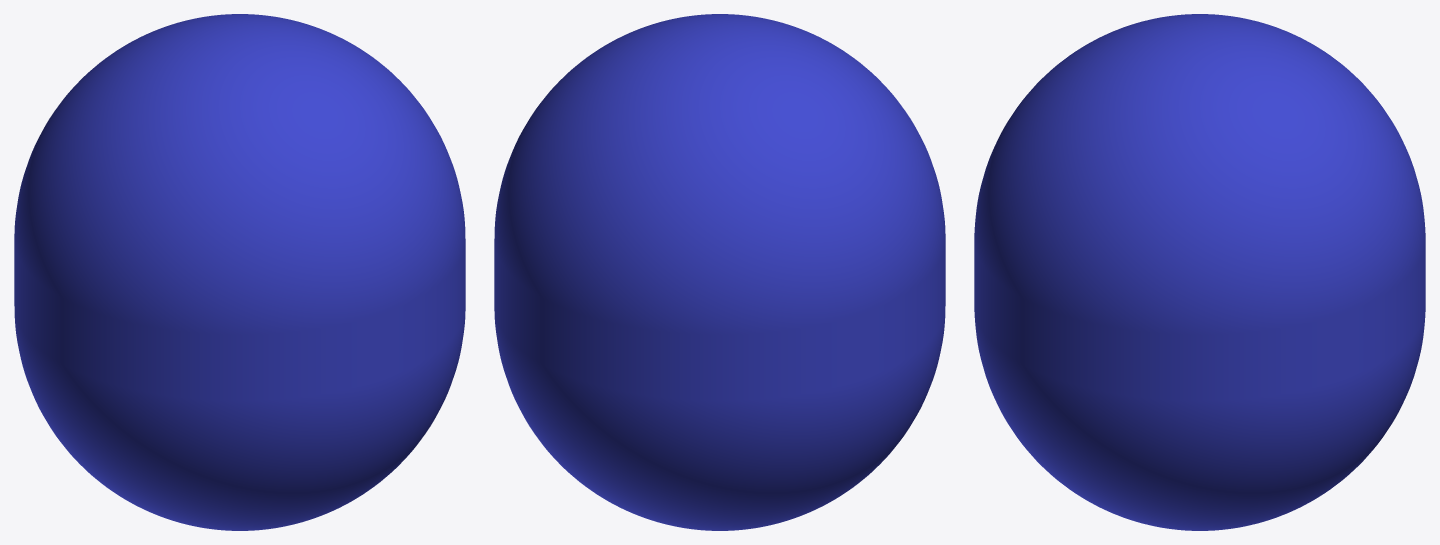
The model's file is Blue Bullet.fbx.
3 renders of one model, left to right at view 1: azimuth 30°, elevation 25°; view 2: azimuth 150°, elevation 25°; view 3: azimuth 270°, elevation 25°, orthographic.
Visible parts, largest first — view 1: root; view 2: root; view 3: root.
Boxes of the visible parts, left/top/right/bottom form: root: left=14, top=14, right=465, bottom=530; root: left=494, top=14, right=945, bottom=530; root: left=974, top=14, right=1425, bottom=530.
Bounding box in the file's own units: 0.1399 × 0.1624 × 0.1399.
